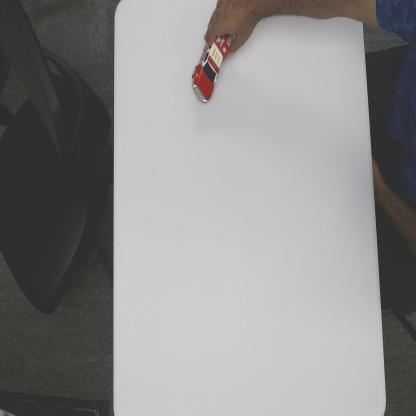Arm: (263, 0, 416, 35)
Firetruck: (188, 29, 230, 106)
Hand: (200, 0, 263, 56)
